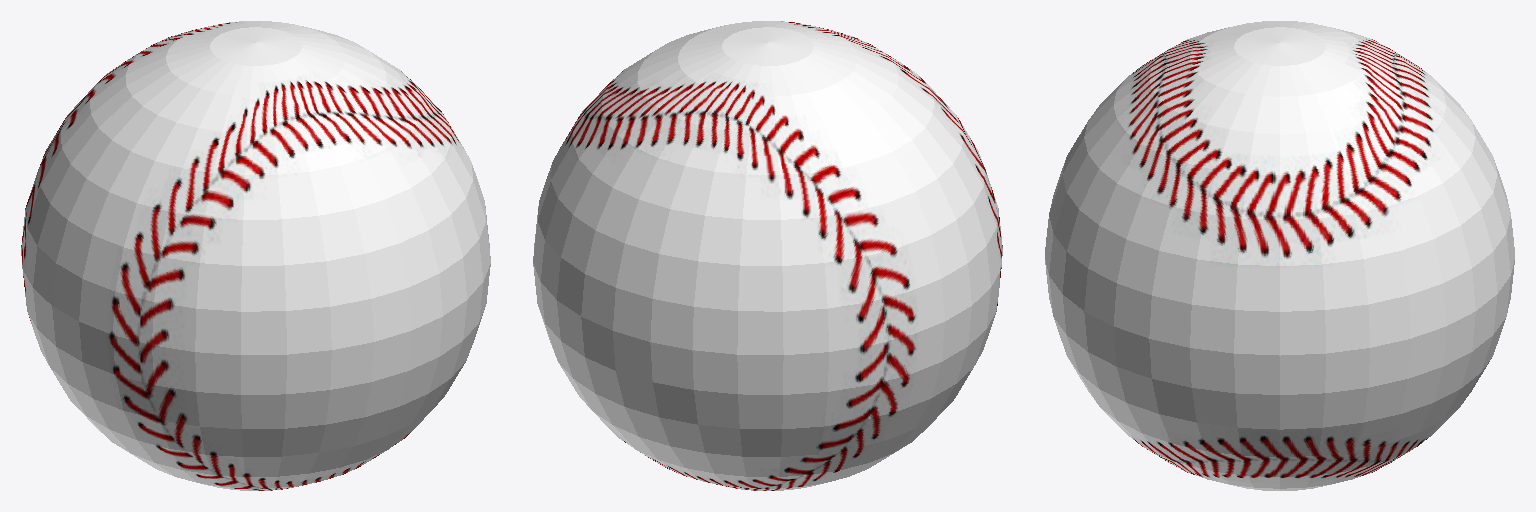
3 renders of one model, left to right at view 1: azimuth 30°, elevation 25°; view 2: azimuth 150°, elevation 25°; view 3: azimuth 270°, elevation 25°, orthographic.
Parts seen in each view (by area): view 1: 구체; view 2: 구체; view 3: 구체.
Boxes of the visible parts, x1,y1,x2,y2 form: 구체: [21, 21, 490, 490]; 구체: [533, 21, 1002, 490]; 구체: [1045, 21, 1514, 490].
Bounding box in the file's own units: 2 × 2 × 2.
Materials: 1 (1 with a texture image).